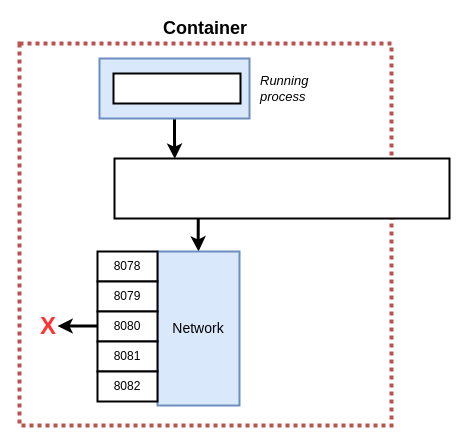
This 467x444 diagram has some shape labels left out. The shapes that lost their labels are listed below. From the top down, each one's centre as x and y in pixels, then its label:
point 176,88: node index.js
point 281,188: Kernel
